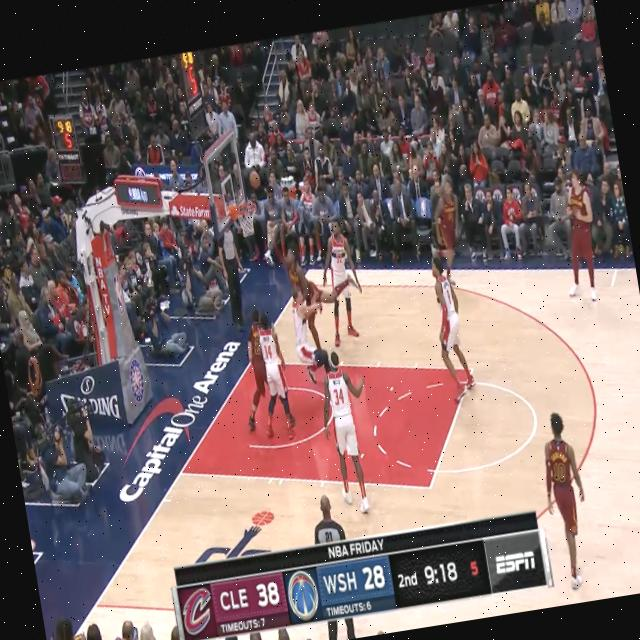foul: (276, 232, 366, 386)
no foul: (308, 344, 389, 531), (228, 302, 307, 447), (316, 216, 384, 365)
